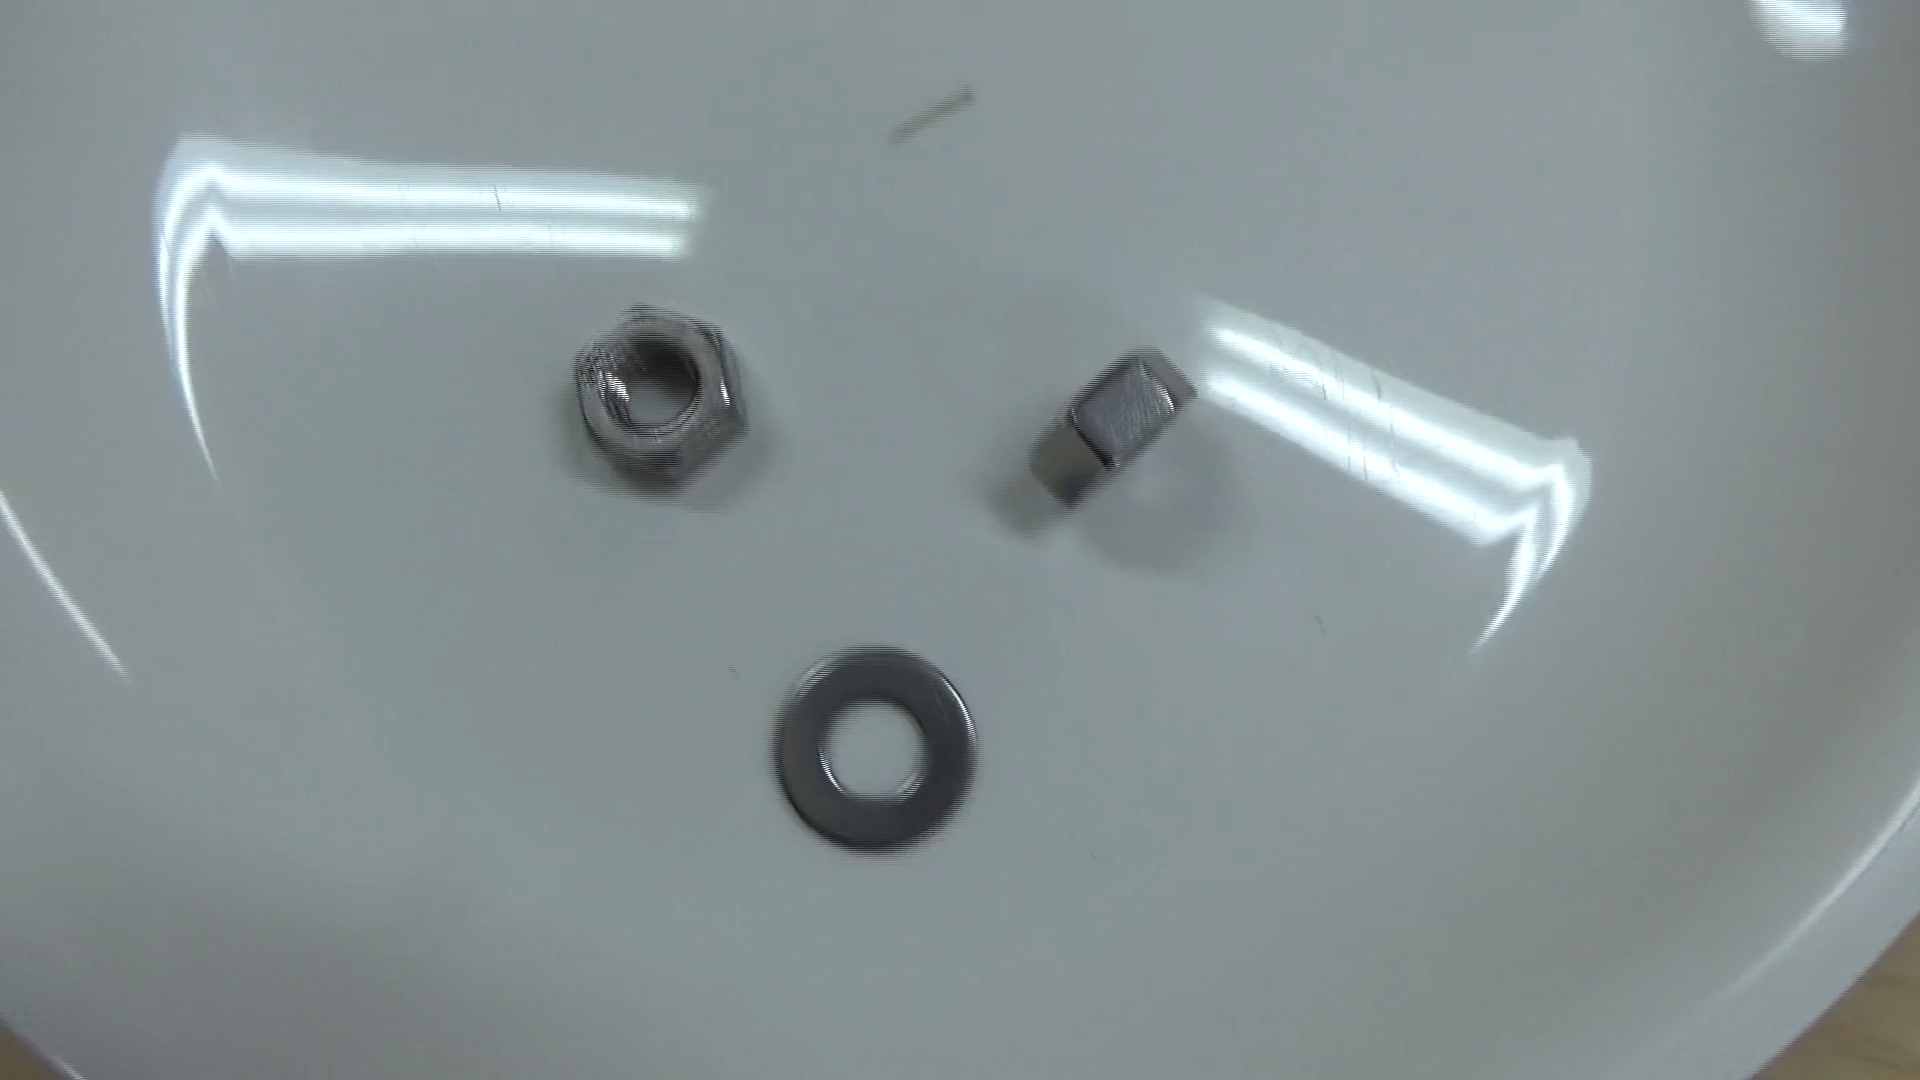nut: (549, 301, 756, 496), (1021, 336, 1203, 525)
washer: (760, 636, 996, 866)
